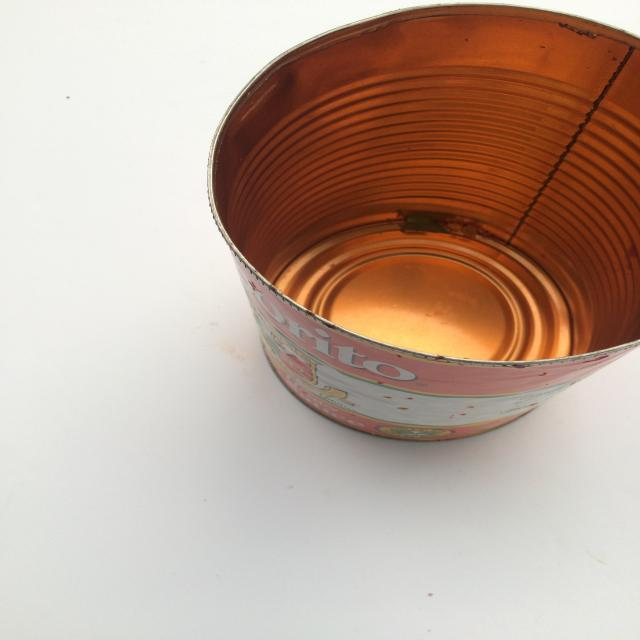metal: (212, 2, 640, 441)
